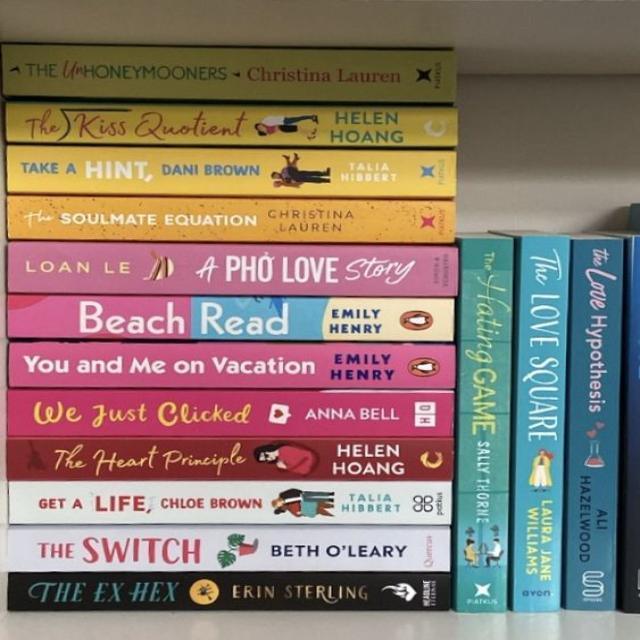book: (2, 44, 454, 102), (8, 241, 457, 296), (7, 145, 455, 198), (509, 235, 571, 612), (562, 238, 622, 610), (454, 236, 513, 611), (9, 389, 454, 438), (7, 295, 454, 342), (9, 343, 455, 390), (9, 477, 450, 524), (7, 198, 454, 243), (8, 526, 449, 571), (6, 104, 457, 148), (8, 440, 452, 480), (7, 573, 450, 611)
